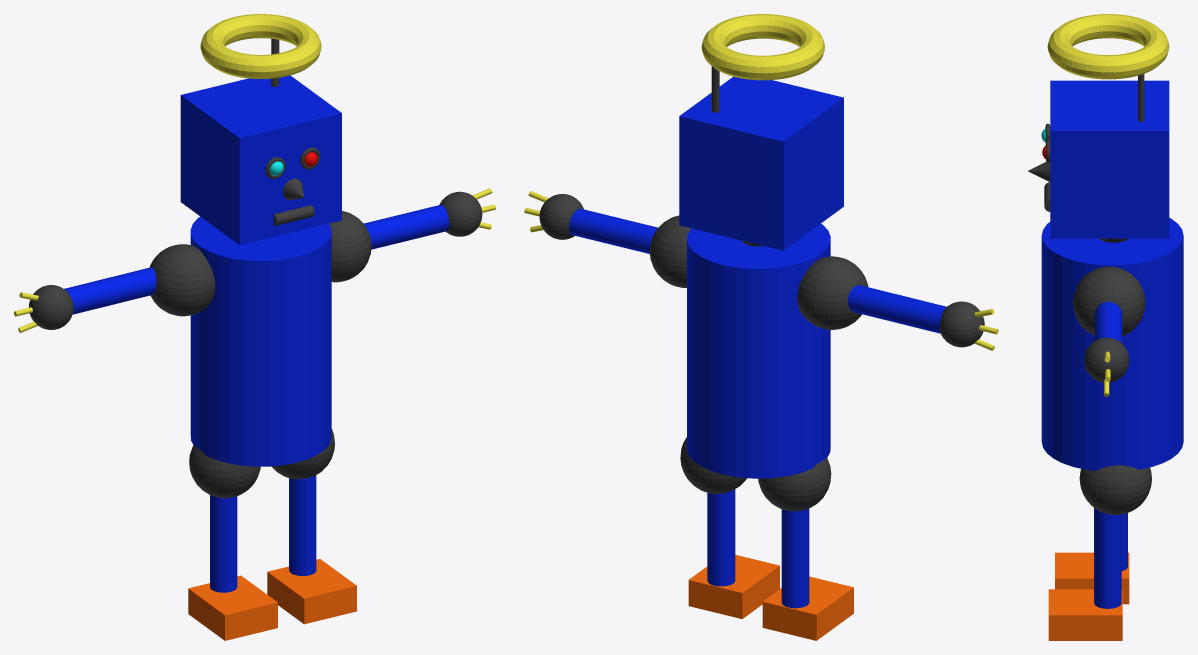
The model's file is hunkapong.fbx.
3 renders of one model, left to right at view 1: azimuth 30°, elevation 25°; view 2: azimuth 150°, elevation 25°; view 3: azimuth 270°, elevation 25°, orthographic.
Parts seen in each view (by area): view 1: Cylinder.002; view 2: Cylinder.002; view 3: Cylinder.002.
Part boxes in pixels (<box>): Cylinder.002: <box>14,14,495,640</box>; Cylinder.002: <box>524,14,998,640</box>; Cylinder.002: <box>1028,14,1183,640</box>.
Size of the model in its own units: 398 by 461 by 114.
